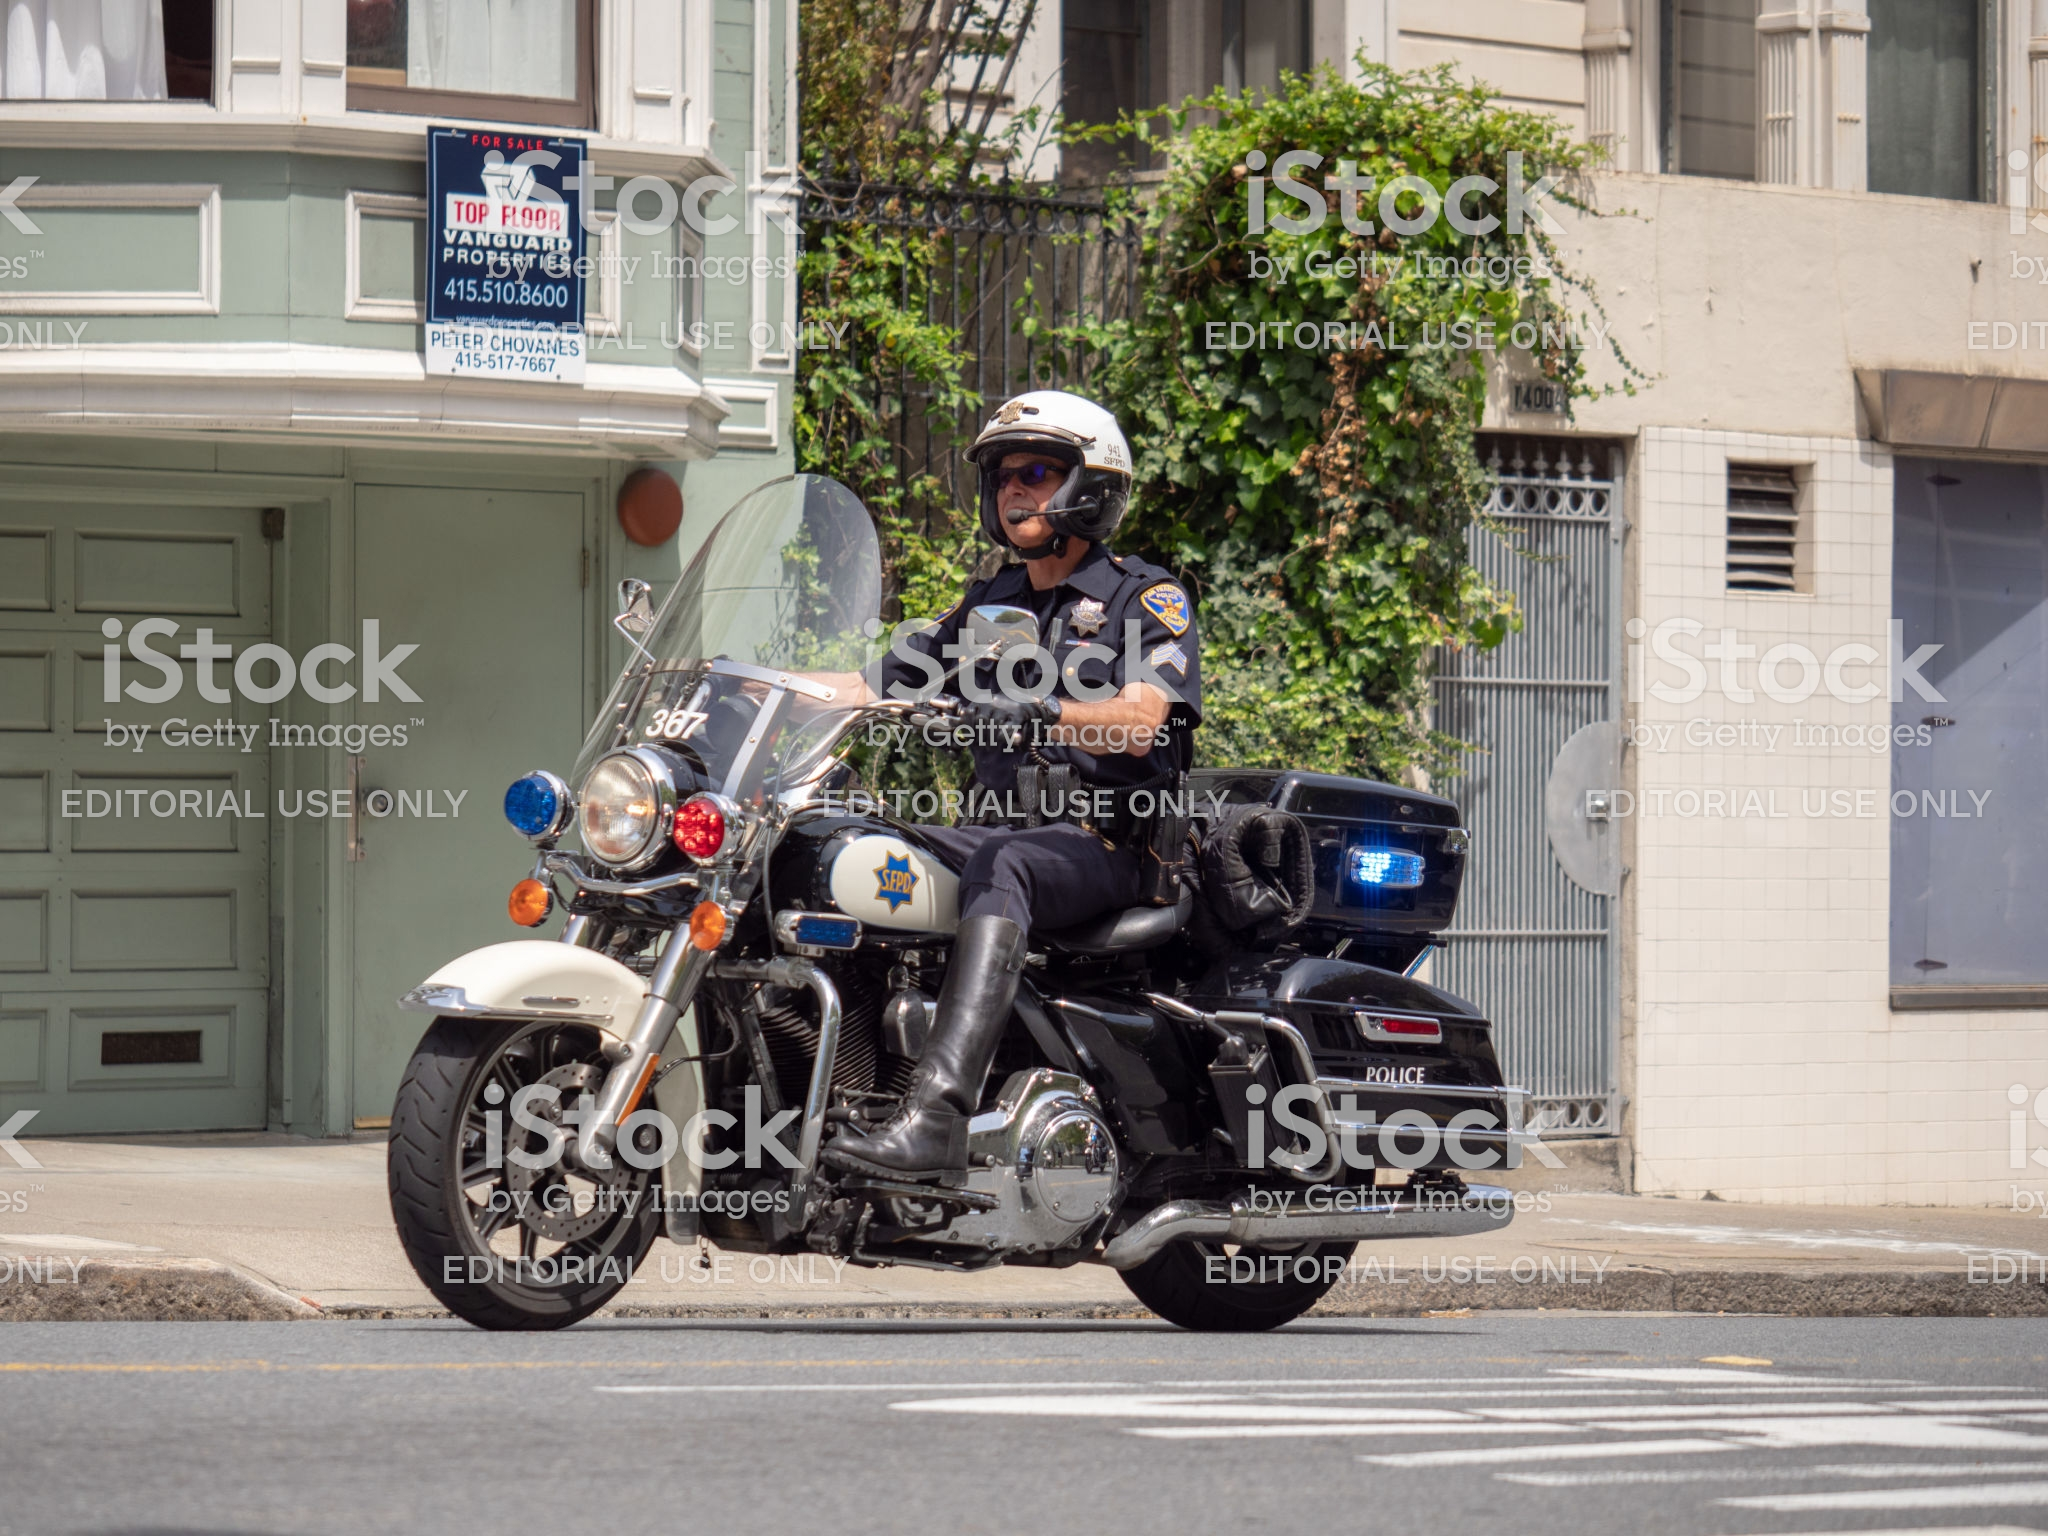helmet: (961, 382, 1142, 568)
